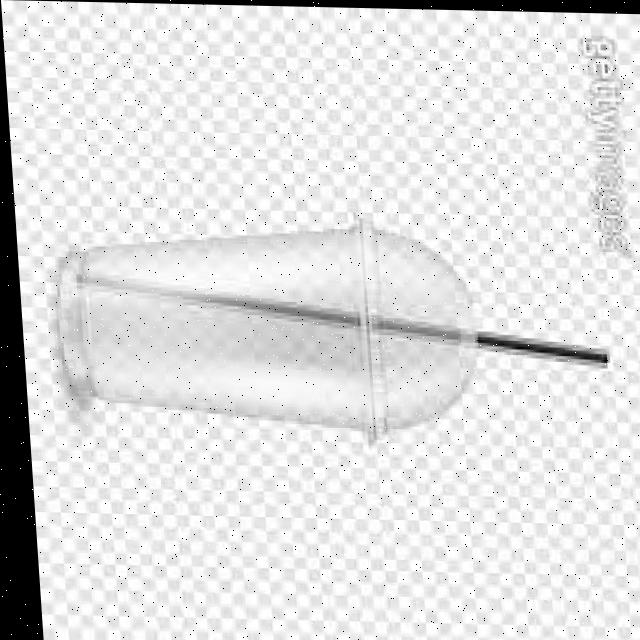cup: (20, 188, 424, 461)
